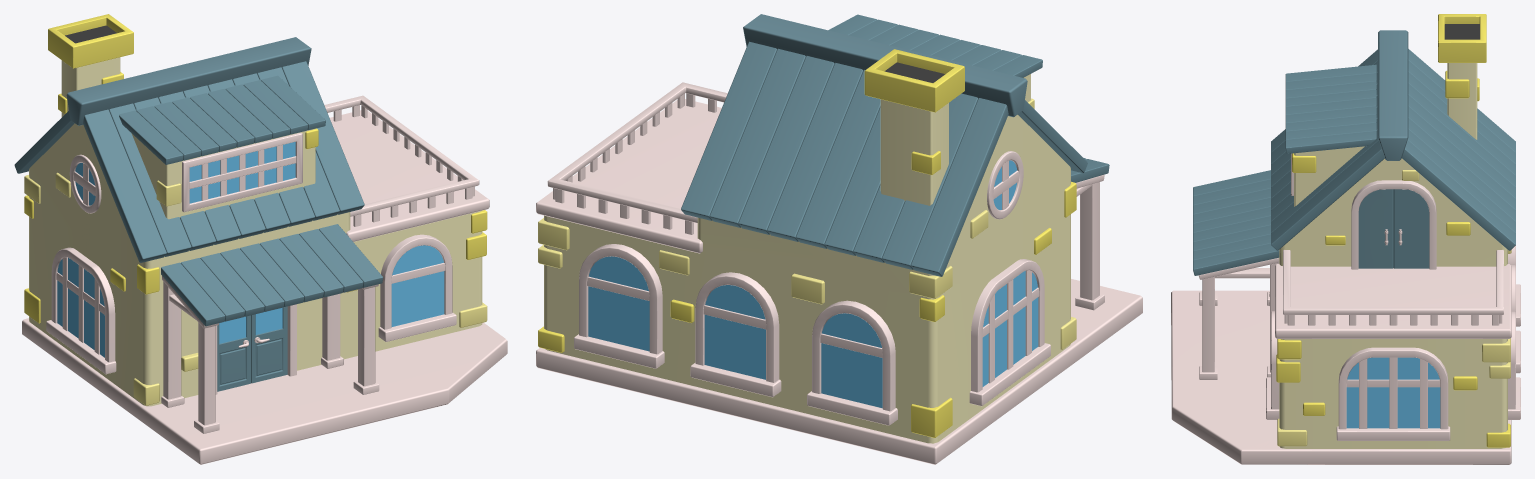
File: Town_16_House_1.glb
3 views of the same model, side by side, from view 1: azimuth 30°, elevation 25°; view 2: azimuth 150°, elevation 25°; view 3: azimuth 270°, elevation 25° (orthographic). The views are drawn at different scales.
Visible parts, largest first — view 1: Town_16_House_1; view 2: Town_16_House_1; view 3: Town_16_House_1.
Part boxes in pixels (x1,y1,x2,y2): Town_16_House_1: (14, 14, 507, 464); Town_16_House_1: (536, 14, 1142, 464); Town_16_House_1: (1171, 14, 1520, 464).
Bounding box in the file's own units: 9.76 × 8.05 × 8.57.
1 material, 1 textured.
